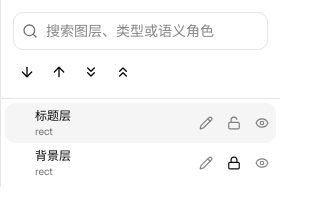
DesignLayersPanel › selects, searches, renames and exposes layer controls through the adapter
The image size is (320, 204).
Click the button with aria-label "选择图层：标题层". click: click(114, 123)
box: x1=35 y1=108 x2=192 y2=138
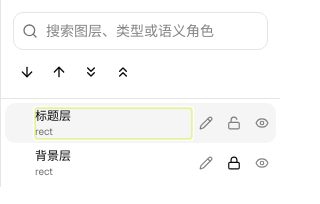
Click the button named "锁定图层". click: click(234, 123)
box: x1=220 y1=109 x2=248 y2=137
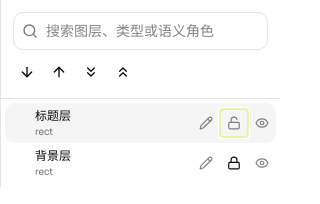
Click the button named "置于底层". click: click(91, 72)
box: x1=77 y1=58 x2=105 y2=86
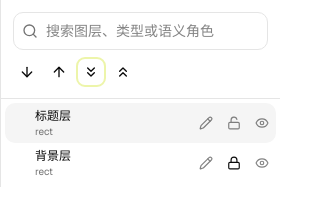
Click the 1st button named "重命名图层". click: click(206, 123)
box: x1=192 y1=109 x2=220 y2=137
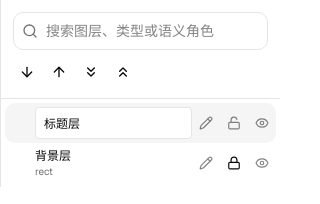
Replace the text in the field named "重命名图层：标题层" with "新标题". click: (114, 123)
box: x1=35 y1=107 x2=192 y2=139
Then press Enter
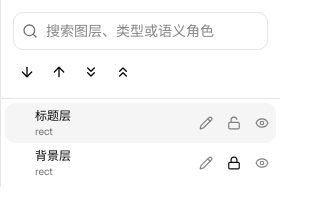
Type "背景" into the field named "搜索设计图层". click: (152, 31)
box: x1=46 y1=13 x2=259 y2=49
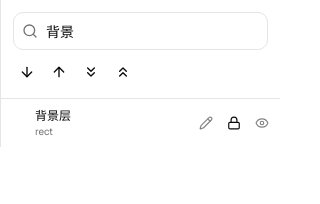
Expected: the text "背景层" is shown, x1=35 y1=108 x2=71 y2=124
Result: the button "标题层" is gone
